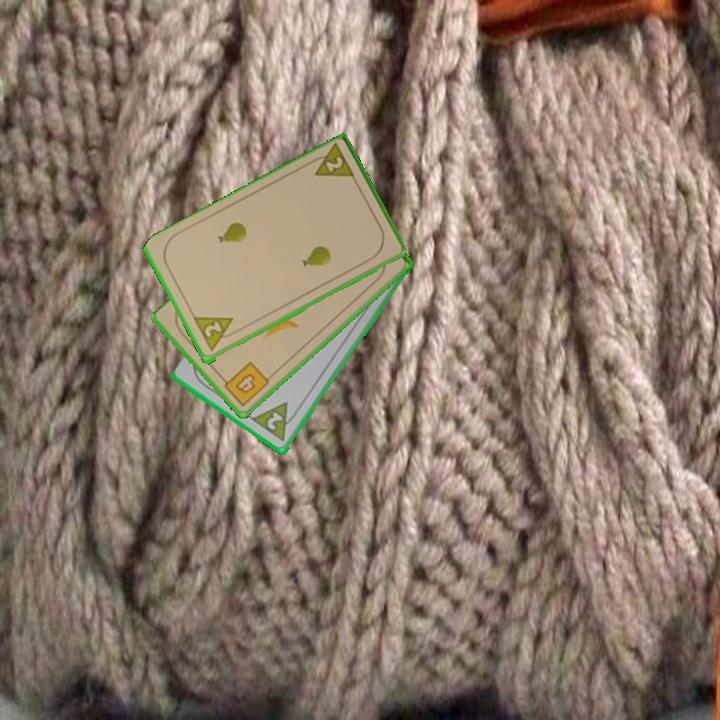2p: (249, 398, 302, 445), (190, 313, 241, 356), (322, 153, 346, 175)
4b: (217, 358, 272, 410)
